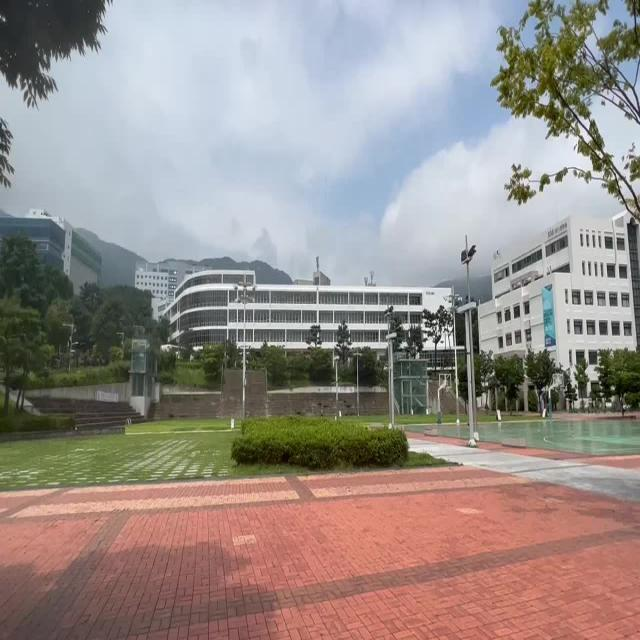building: (177, 255, 432, 325)
